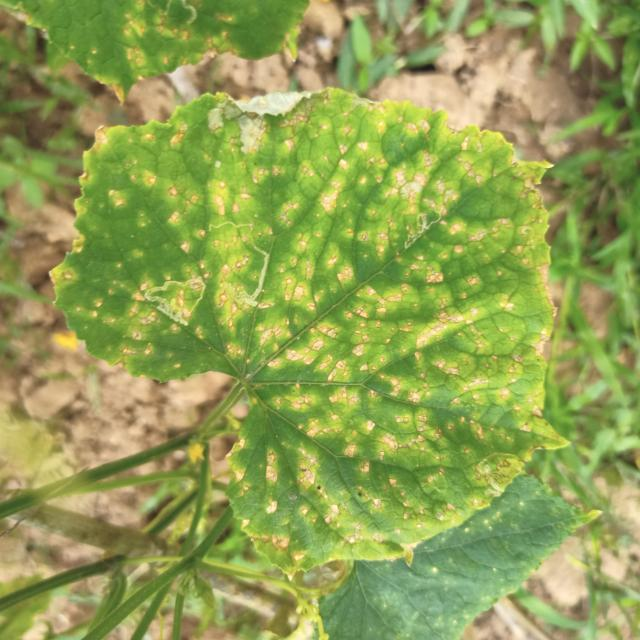disease_cucumber: (69, 99, 550, 567)
